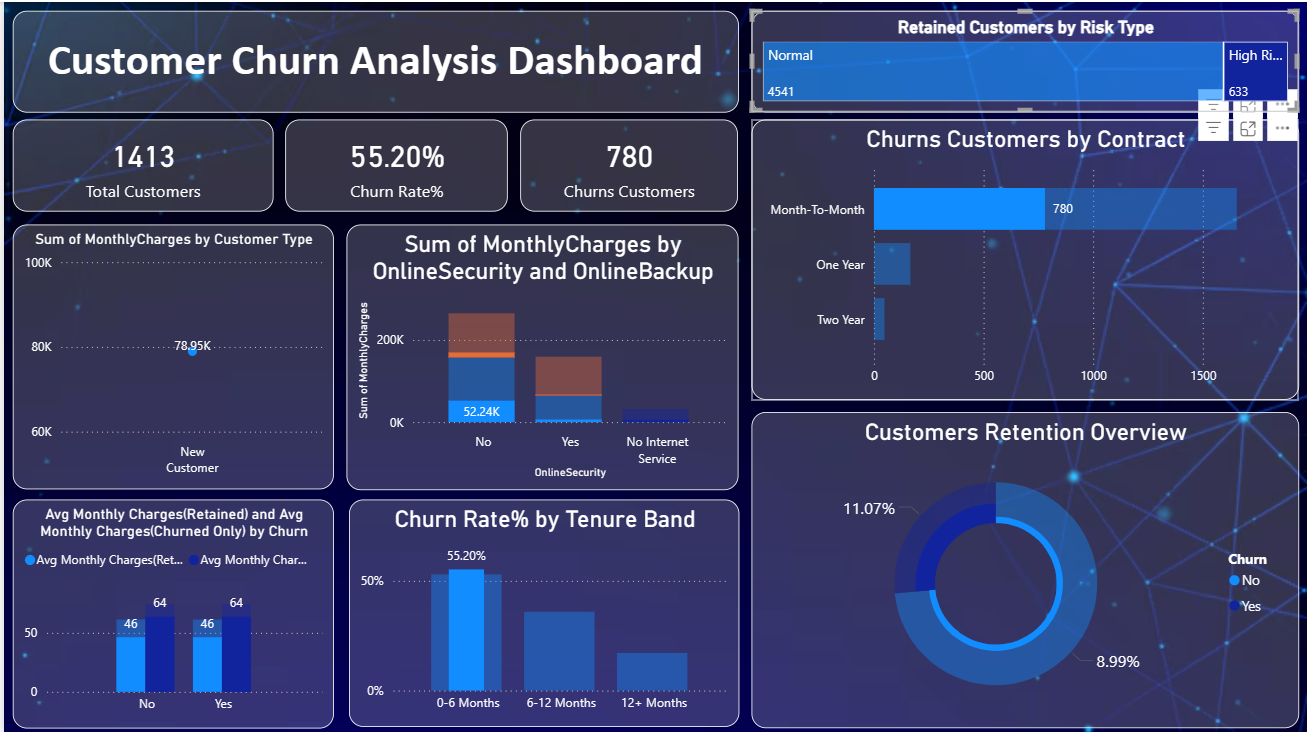

The page's visual inventory and layout, read from the dashboard file:
{"tool":"powerbi","page":{"name":"Page 1","canvas":[1280,720],"ordinal":0},"visuals":[{"type":"textbox","box":[8,8,712.5,99.7],"z":0},{"type":"treemap","fields":{"Values":["Calculated Measure.Retained Customers"],"Group":["WA_Fn-UseC_-Telco-Customer-Churn.Risk Type"]},"box":[733.5,8,537.2,99.7],"z":1000},{"type":"card","fields":{"Values":["Calculated Measure.Total Customers"]},"box":[8,115.8,255.7,90.1],"z":2000},{"type":"card","fields":{"Values":["Calculated Measure.Churn Rate%"]},"box":[276.7,115.8,218.7,90.1],"z":3000},{"type":"card","fields":{"Values":["Calculated Measure.Churns Customers"]},"box":[506.7,115.8,213.9,90.1],"z":4000},{"type":"donutChart","title":"Customers Retention Overview","fields":{"Y":["Calculated Measure.Total Customers"],"Category":["WA_Fn-UseC_-Telco-Customer-Churn.Churn"]},"box":[733.5,402.1,537.2,310.4],"z":5000},{"type":"barChart","fields":{"Category":["WA_Fn-UseC_-Telco-Customer-Churn.Contract"],"Y":["Calculated Measure.Churns Customers"]},"box":[733.5,115.8,537.2,275],"z":5001},{"type":"columnChart","fields":{"Category":["WA_Fn-UseC_-Telco-Customer-Churn.OnlineSecurity"],"Y":["Sum(WA_Fn-UseC_-Telco-Customer-Churn.MonthlyCharges)"],"Series":["WA_Fn-UseC_-Telco-Customer-Churn.OnlineBackup"]},"box":[336.2,218.7,384.4,260.6],"z":5002},{"type":"columnChart","fields":{"Y":["Calculated Measure.Churn Rate%"],"Category":["WA_Fn-UseC_-Telco-Customer-Churn.Tenure Band"]},"box":[338.3,488.3,383.3,223.3],"z":5003},{"type":"clusteredColumnChart","fields":{"Y":["Calculated Measure.Avg Monthly Charges(Retained)","Calculated Measure.Avg Monthly Charges(Churned Only)"],"Category":["WA_Fn-UseC_-Telco-Customer-Churn.Churn"]},"box":[8.6,488.3,315.3,224.5],"z":5004},{"type":"lineChart","fields":{"Category":["WA_Fn-UseC_-Telco-Customer-Churn.Customer Type"],"Y":["Sum(WA_Fn-UseC_-Telco-Customer-Churn.MonthlyCharges)"]},"box":[8.6,218.4,315.3,260.1],"z":5005}]}

Visuals, with their boxes in screenshot pixels (x1, y1, x2, y2), scaled from the page's 1280x720 canvas onto the 1307x732 screenshot:
textbox: pyautogui.locateOnScreen(8, 8, 736, 109)
treemap - Calculated Measure.Retained Customers x WA_Fn-UseC_-Telco-Customer-Churn.Risk Type: pyautogui.locateOnScreen(749, 8, 1298, 109)
card - Calculated Measure.Total Customers: pyautogui.locateOnScreen(8, 118, 269, 209)
card - Calculated Measure.Churn Rate%: pyautogui.locateOnScreen(283, 118, 506, 209)
card - Calculated Measure.Churns Customers: pyautogui.locateOnScreen(517, 118, 736, 209)
"Customers Retention Overview" donutChart: pyautogui.locateOnScreen(749, 409, 1298, 724)
barChart - WA_Fn-UseC_-Telco-Customer-Churn.Contract x Calculated Measure.Churns Customers: pyautogui.locateOnScreen(749, 118, 1298, 397)
columnChart - WA_Fn-UseC_-Telco-Customer-Churn.OnlineSecurity x Sum(WA_Fn-UseC_-Telco-Customer-Churn.MonthlyCharges): pyautogui.locateOnScreen(343, 222, 736, 487)
columnChart - Calculated Measure.Churn Rate% x WA_Fn-UseC_-Telco-Customer-Churn.Tenure Band: pyautogui.locateOnScreen(345, 496, 737, 723)
clusteredColumnChart - Calculated Measure.Avg Monthly Charges(Retained) x Calculated Measure.Avg Monthly Charges(Churned Only): pyautogui.locateOnScreen(9, 496, 331, 725)
lineChart - WA_Fn-UseC_-Telco-Customer-Churn.Customer Type x Sum(WA_Fn-UseC_-Telco-Customer-Churn.MonthlyCharges): pyautogui.locateOnScreen(9, 222, 331, 486)
